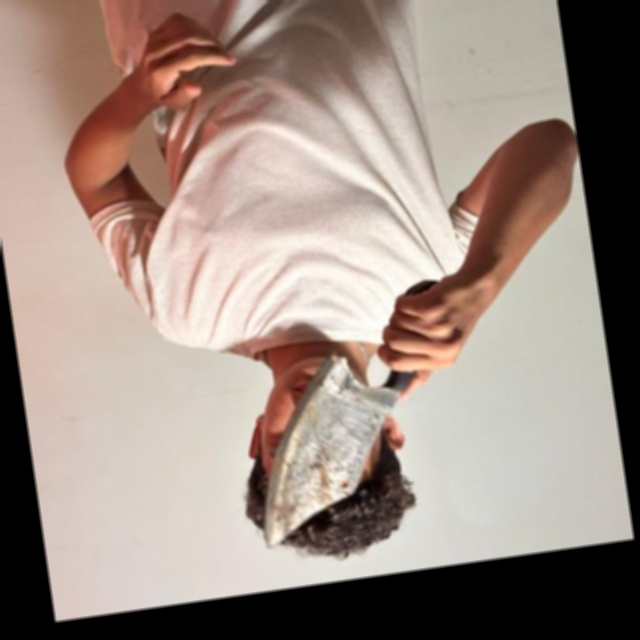Sharp-Object: (241, 344, 408, 546)
